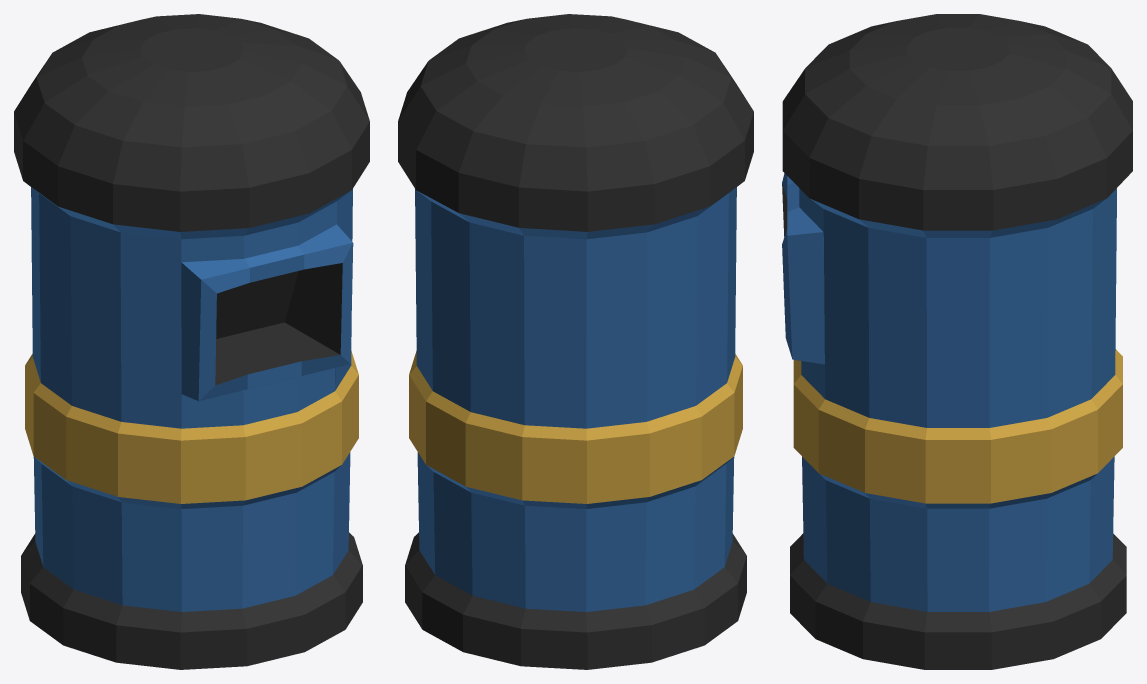
The model's file is cop_kutusu_2.glb.
The picture shows the model from 3 angles, left to right: view 1: azimuth 30°, elevation 25°; view 2: azimuth 150°, elevation 25°; view 3: azimuth 270°, elevation 25°; orthographic projection.
Parts seen in each view (by area): view 1: cop_kutusu_2; view 2: cop_kutusu_2; view 3: cop_kutusu_2.
Boxes of the visible parts, <box> form: cop_kutusu_2: <box>14,14,369,669</box>; cop_kutusu_2: <box>398,14,753,669</box>; cop_kutusu_2: <box>782,14,1132,669</box>.
Bounding box in the file's own units: 0.55 × 0.95 × 0.55.
